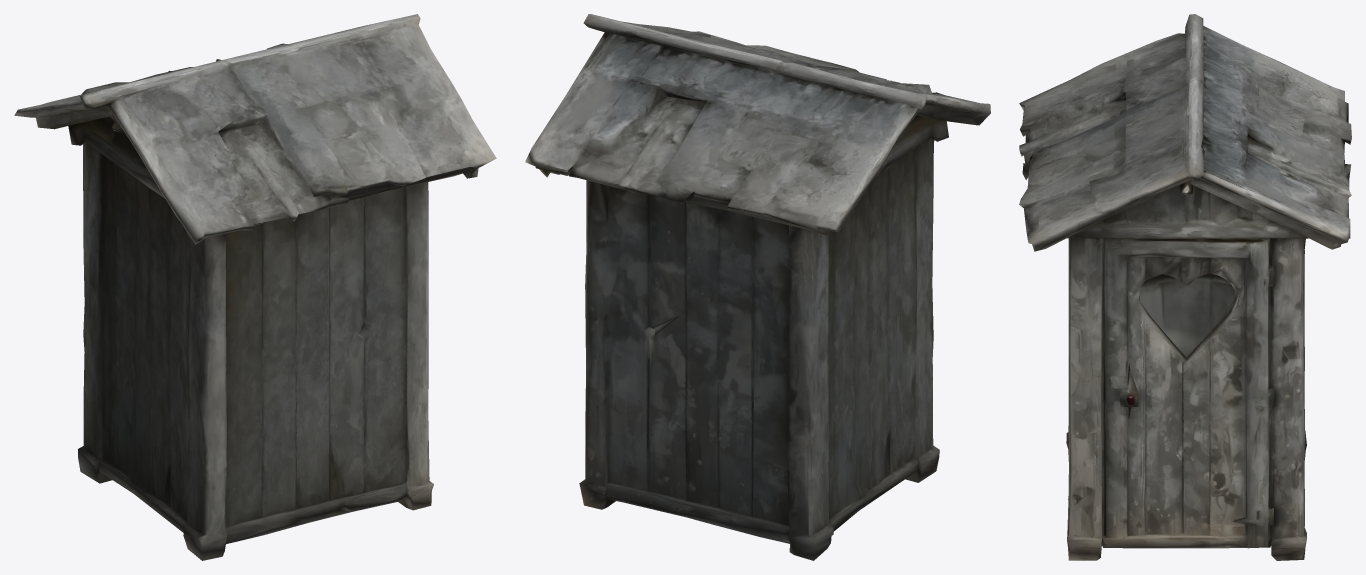
File: kh_outhouse.glb
The picture shows the model from 3 angles, left to right: view 1: azimuth 30°, elevation 25°; view 2: azimuth 150°, elevation 25°; view 3: azimuth 270°, elevation 25°; orthographic projection. The views are drawn at different scales.
Visible parts, largest first — view 1: tripo_node_f27b46c0-e271-494c-96d8-b3043aa7c581; view 2: tripo_node_f27b46c0-e271-494c-96d8-b3043aa7c581; view 3: tripo_node_f27b46c0-e271-494c-96d8-b3043aa7c581.
Part boxes in pixels (x1,y1,x2,y2): tripo_node_f27b46c0-e271-494c-96d8-b3043aa7c581: (14, 14, 496, 560); tripo_node_f27b46c0-e271-494c-96d8-b3043aa7c581: (525, 14, 990, 560); tripo_node_f27b46c0-e271-494c-96d8-b3043aa7c581: (1019, 14, 1351, 560).
Size of the model in its own units: 0.8066 by 1 by 0.7262.
1 material, 1 textured.
